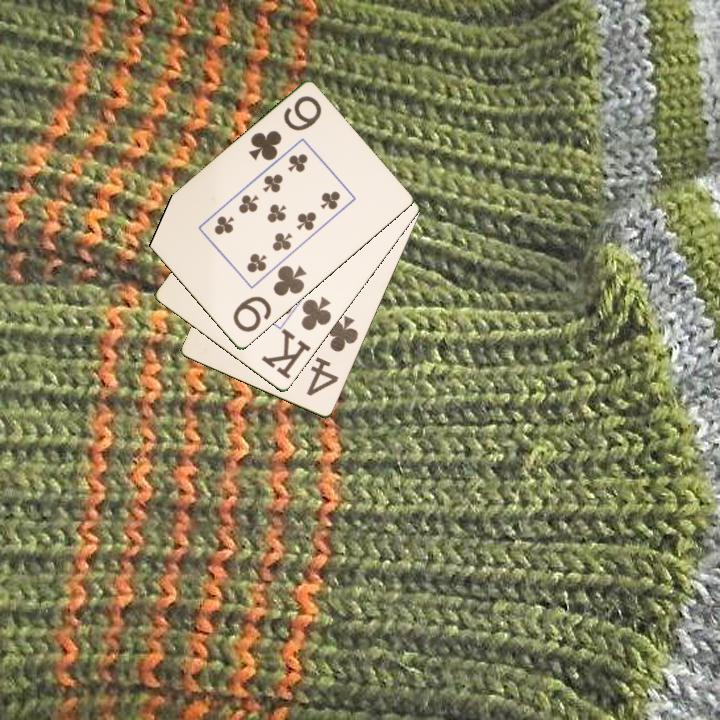4c: (303, 312, 362, 399)
9c: (229, 262, 310, 336), (245, 92, 325, 164)
Kc: (258, 293, 335, 383)
